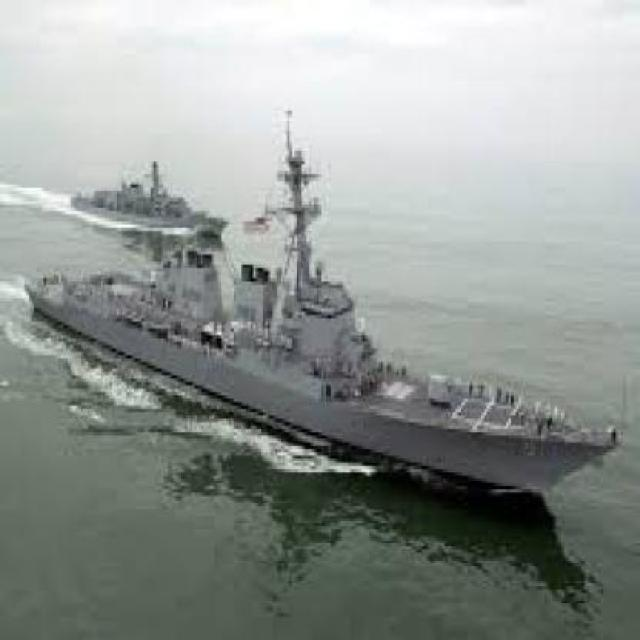warship2: (30, 212, 612, 538), (54, 152, 233, 246)
